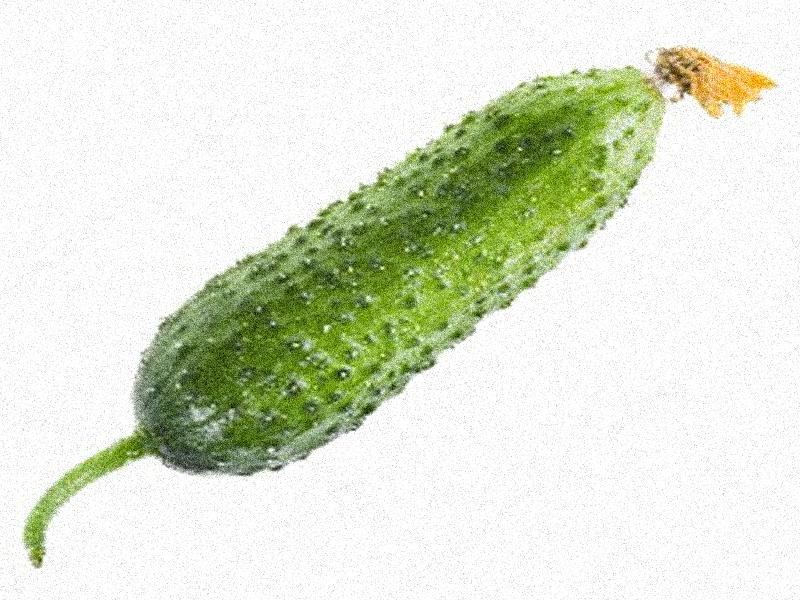Cucumber: (25, 45, 779, 563)
